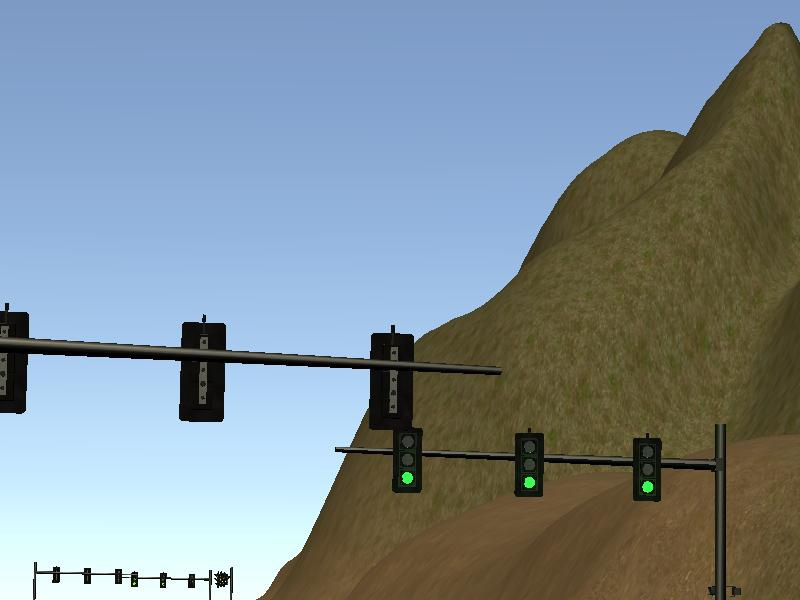Green: (391, 429, 422, 493), (515, 435, 544, 497), (633, 438, 661, 501), (159, 571, 166, 587), (131, 573, 138, 587)
Off: (186, 574, 196, 589)
